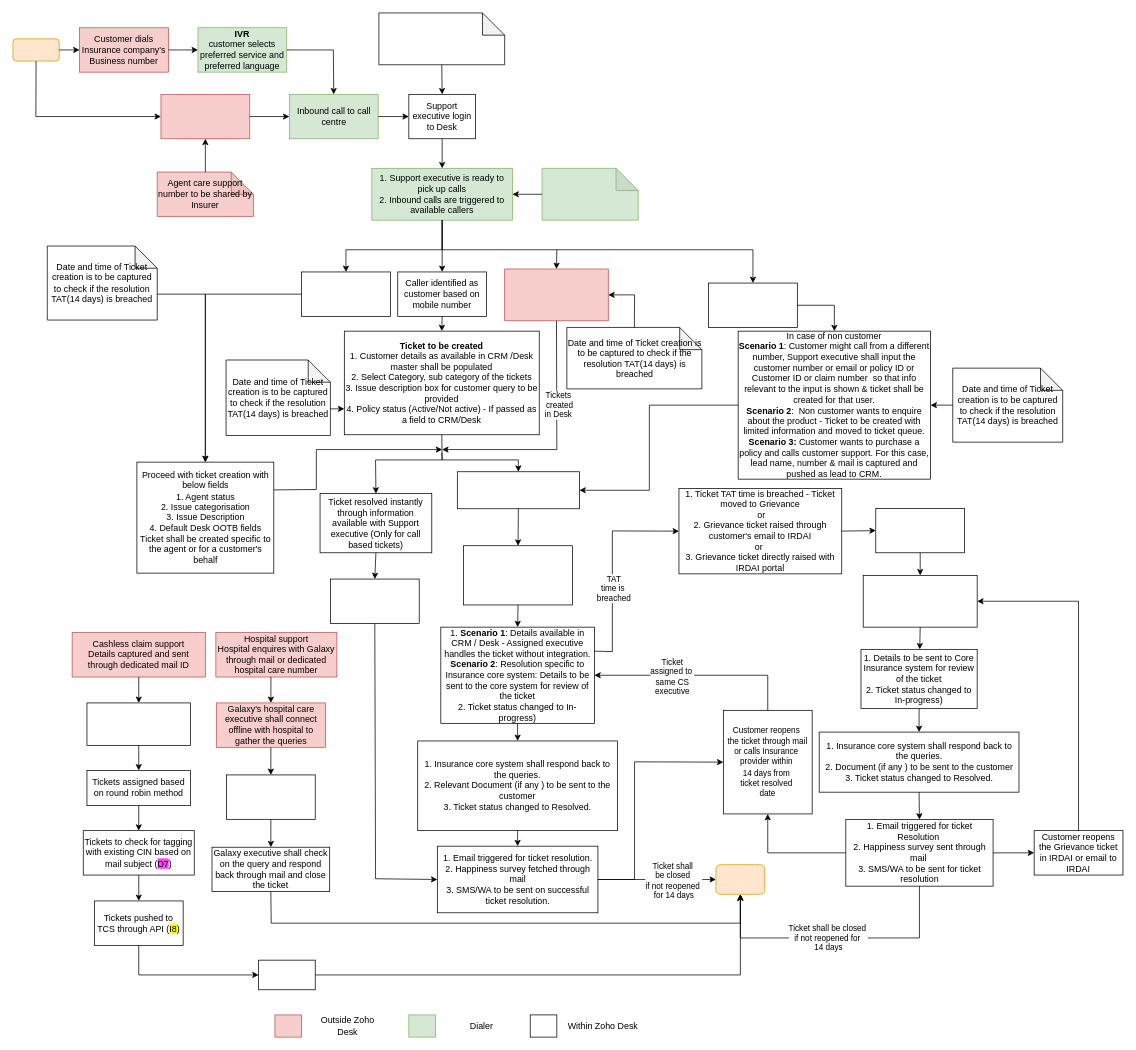
The diagram is 1136 pixels wide and 1050 high, and some of its shapes have lost their labels. The shapes that lost their labels are listed below. From the top down, each one's centre as x and y in pixels, then its label:
point (35, 49): Start
point (441, 38): SSO to be ensured for CS executive at the time of login
point (205, 116): Agents call from Insurance company's agent care support number
point (589, 194): Support executive assignment is based on round robin method
point (345, 293): Caller identified as Agent based on mobile number
point (556, 294): Queries raised through email, customer portal and agent portal
point (752, 304): Caller identified as non - customer based on mobile number
point (518, 490): Ticket not resolved instantly: Ticket status set as open
point (920, 530): Grievance ticket is moved/ created in Desk with Status as 'Open'
point (518, 575): Ticket to be assigned to Support executives on round robin method
point (374, 600): Ticket status changed from open to resolved
point (919, 601): Grievance ticket assigned to Grievance manager based on round robin method
point (138, 724): Ticket created in Desk based on received details manually.
point (270, 796): Based on input, ticket is created in Zoho Desk with fields as agreed
point (740, 879): End
point (286, 974): Ticket closed
